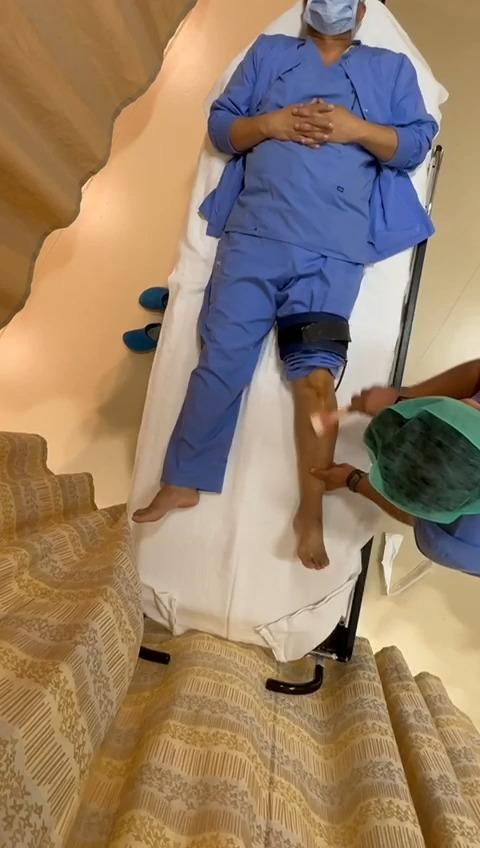bed: (98, 0, 449, 661)
patient: (138, 1, 436, 568)
prepstick: (310, 404, 350, 435)
tourniquet: (278, 313, 349, 363)
